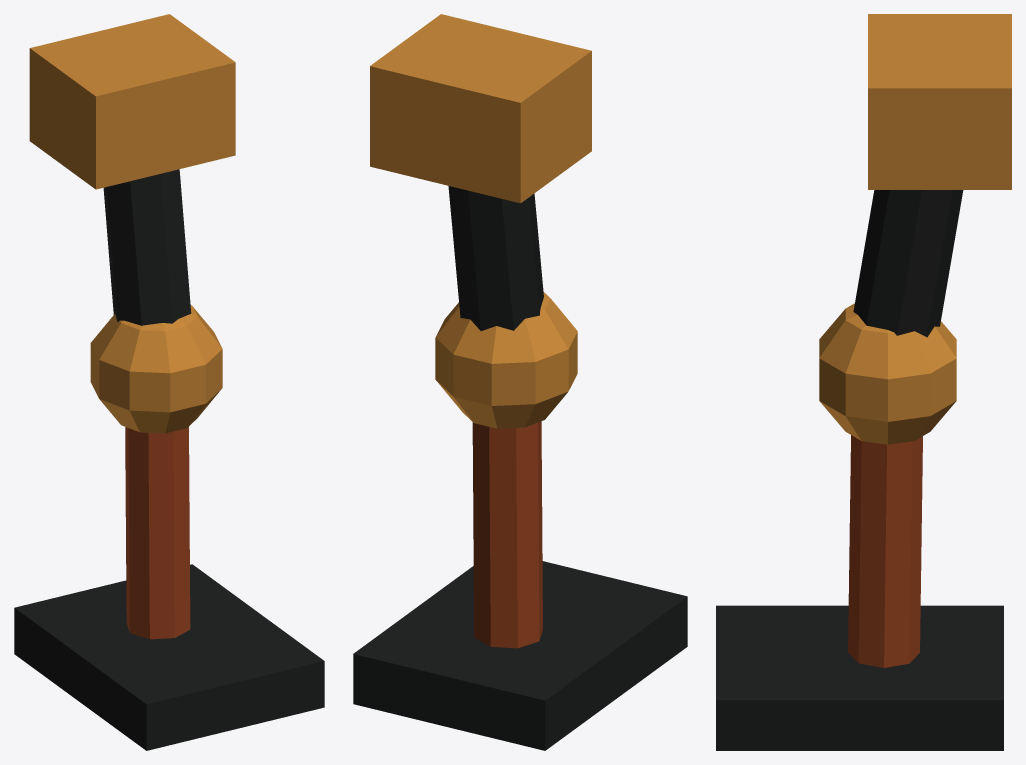
The model's file is PART_PistonLeg_Blockout.obj.
The picture shows the model from 3 angles, left to right: view 1: azimuth 30°, elevation 25°; view 2: azimuth 150°, elevation 25°; view 3: azimuth 270°, elevation 25°; orthographic projection. The views are drawn at different scales.
Visible parts, largest first — view 1: sample_piston_leg_broad_foot, hip_mount_block, sample_piston_leg_lower_piston, sample_piston_leg_knee_socket, sample_piston_leg_upper_piston; view 2: sample_piston_leg_broad_foot, hip_mount_block, sample_piston_leg_lower_piston, sample_piston_leg_knee_socket, sample_piston_leg_upper_piston; view 3: sample_piston_leg_broad_foot, hip_mount_block, sample_piston_leg_lower_piston, sample_piston_leg_knee_socket, sample_piston_leg_upper_piston.
Part boxes in pixels (x1=…): sample_piston_leg_broad_foot: x1=14, y1=564, x2=324, y2=750; hip_mount_block: x1=29, y1=14, x2=235, y2=189; sample_piston_leg_lower_piston: x1=125, y1=427, x2=190, y2=639; sample_piston_leg_knee_socket: x1=90, y1=305, x2=222, y2=433; sample_piston_leg_upper_piston: x1=103, y1=169, x2=191, y2=325; sample_piston_leg_broad_foot: x1=353, y1=561, x2=687, y2=750; hip_mount_block: x1=370, y1=14, x2=591, y2=203; sample_piston_leg_lower_piston: x1=472, y1=421, x2=542, y2=648; sample_piston_leg_knee_socket: x1=435, y1=292, x2=577, y2=428; sample_piston_leg_upper_piston: x1=448, y1=186, x2=543, y2=330; sample_piston_leg_broad_foot: x1=716, y1=605, x2=1003, y2=750; hip_mount_block: x1=868, y1=14, x2=1011, y2=189; sample_piston_leg_lower_piston: x1=848, y1=435, x2=922, y2=667; sample_piston_leg_knee_socket: x1=819, y1=303, x2=956, y2=444; sample_piston_leg_upper_piston: x1=853, y1=190, x2=963, y2=337.
Size of the model in its own units: 0.28 by 0.9 by 0.37.
